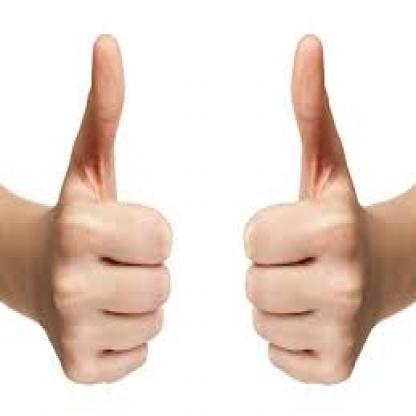thumb_up: (241, 30, 377, 386), (38, 30, 172, 386)
